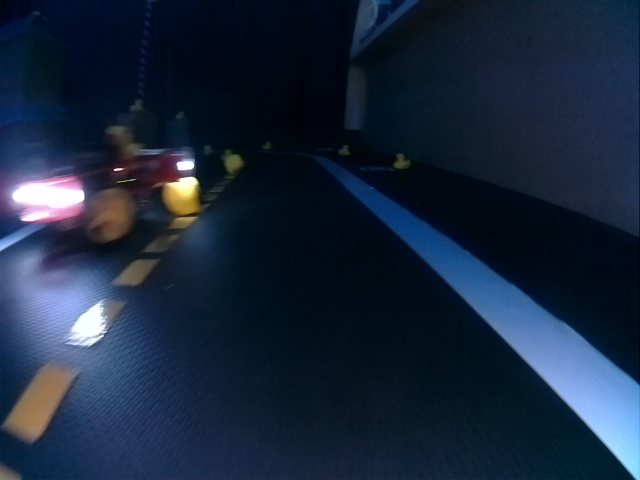Duckie: (106, 126, 139, 156), (225, 154, 243, 172), (393, 153, 410, 169), (131, 99, 143, 111), (340, 145, 348, 154), (264, 141, 272, 150), (177, 111, 185, 120)
Duckiebot: (12, 147, 196, 242)
QR code: (360, 164, 391, 174)
